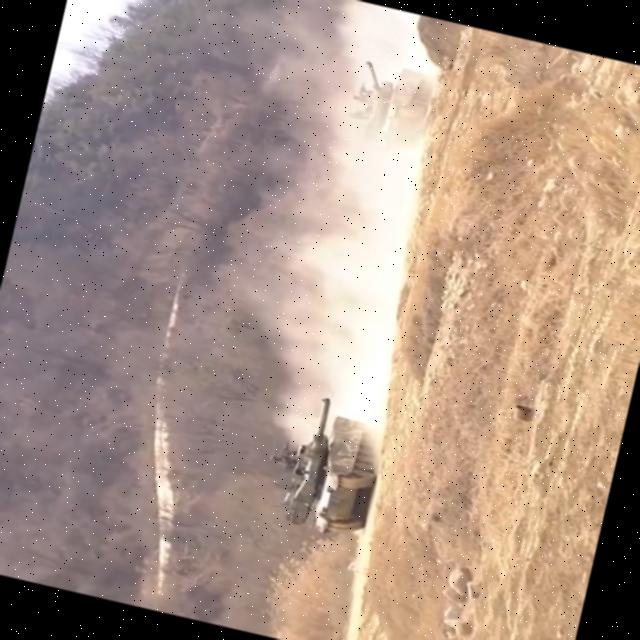korea tank: (252, 387, 390, 541)
